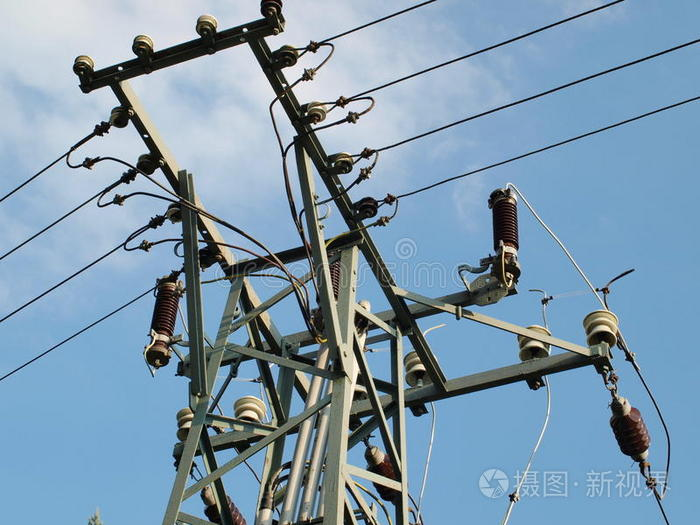insulator: (604, 409, 656, 460)
